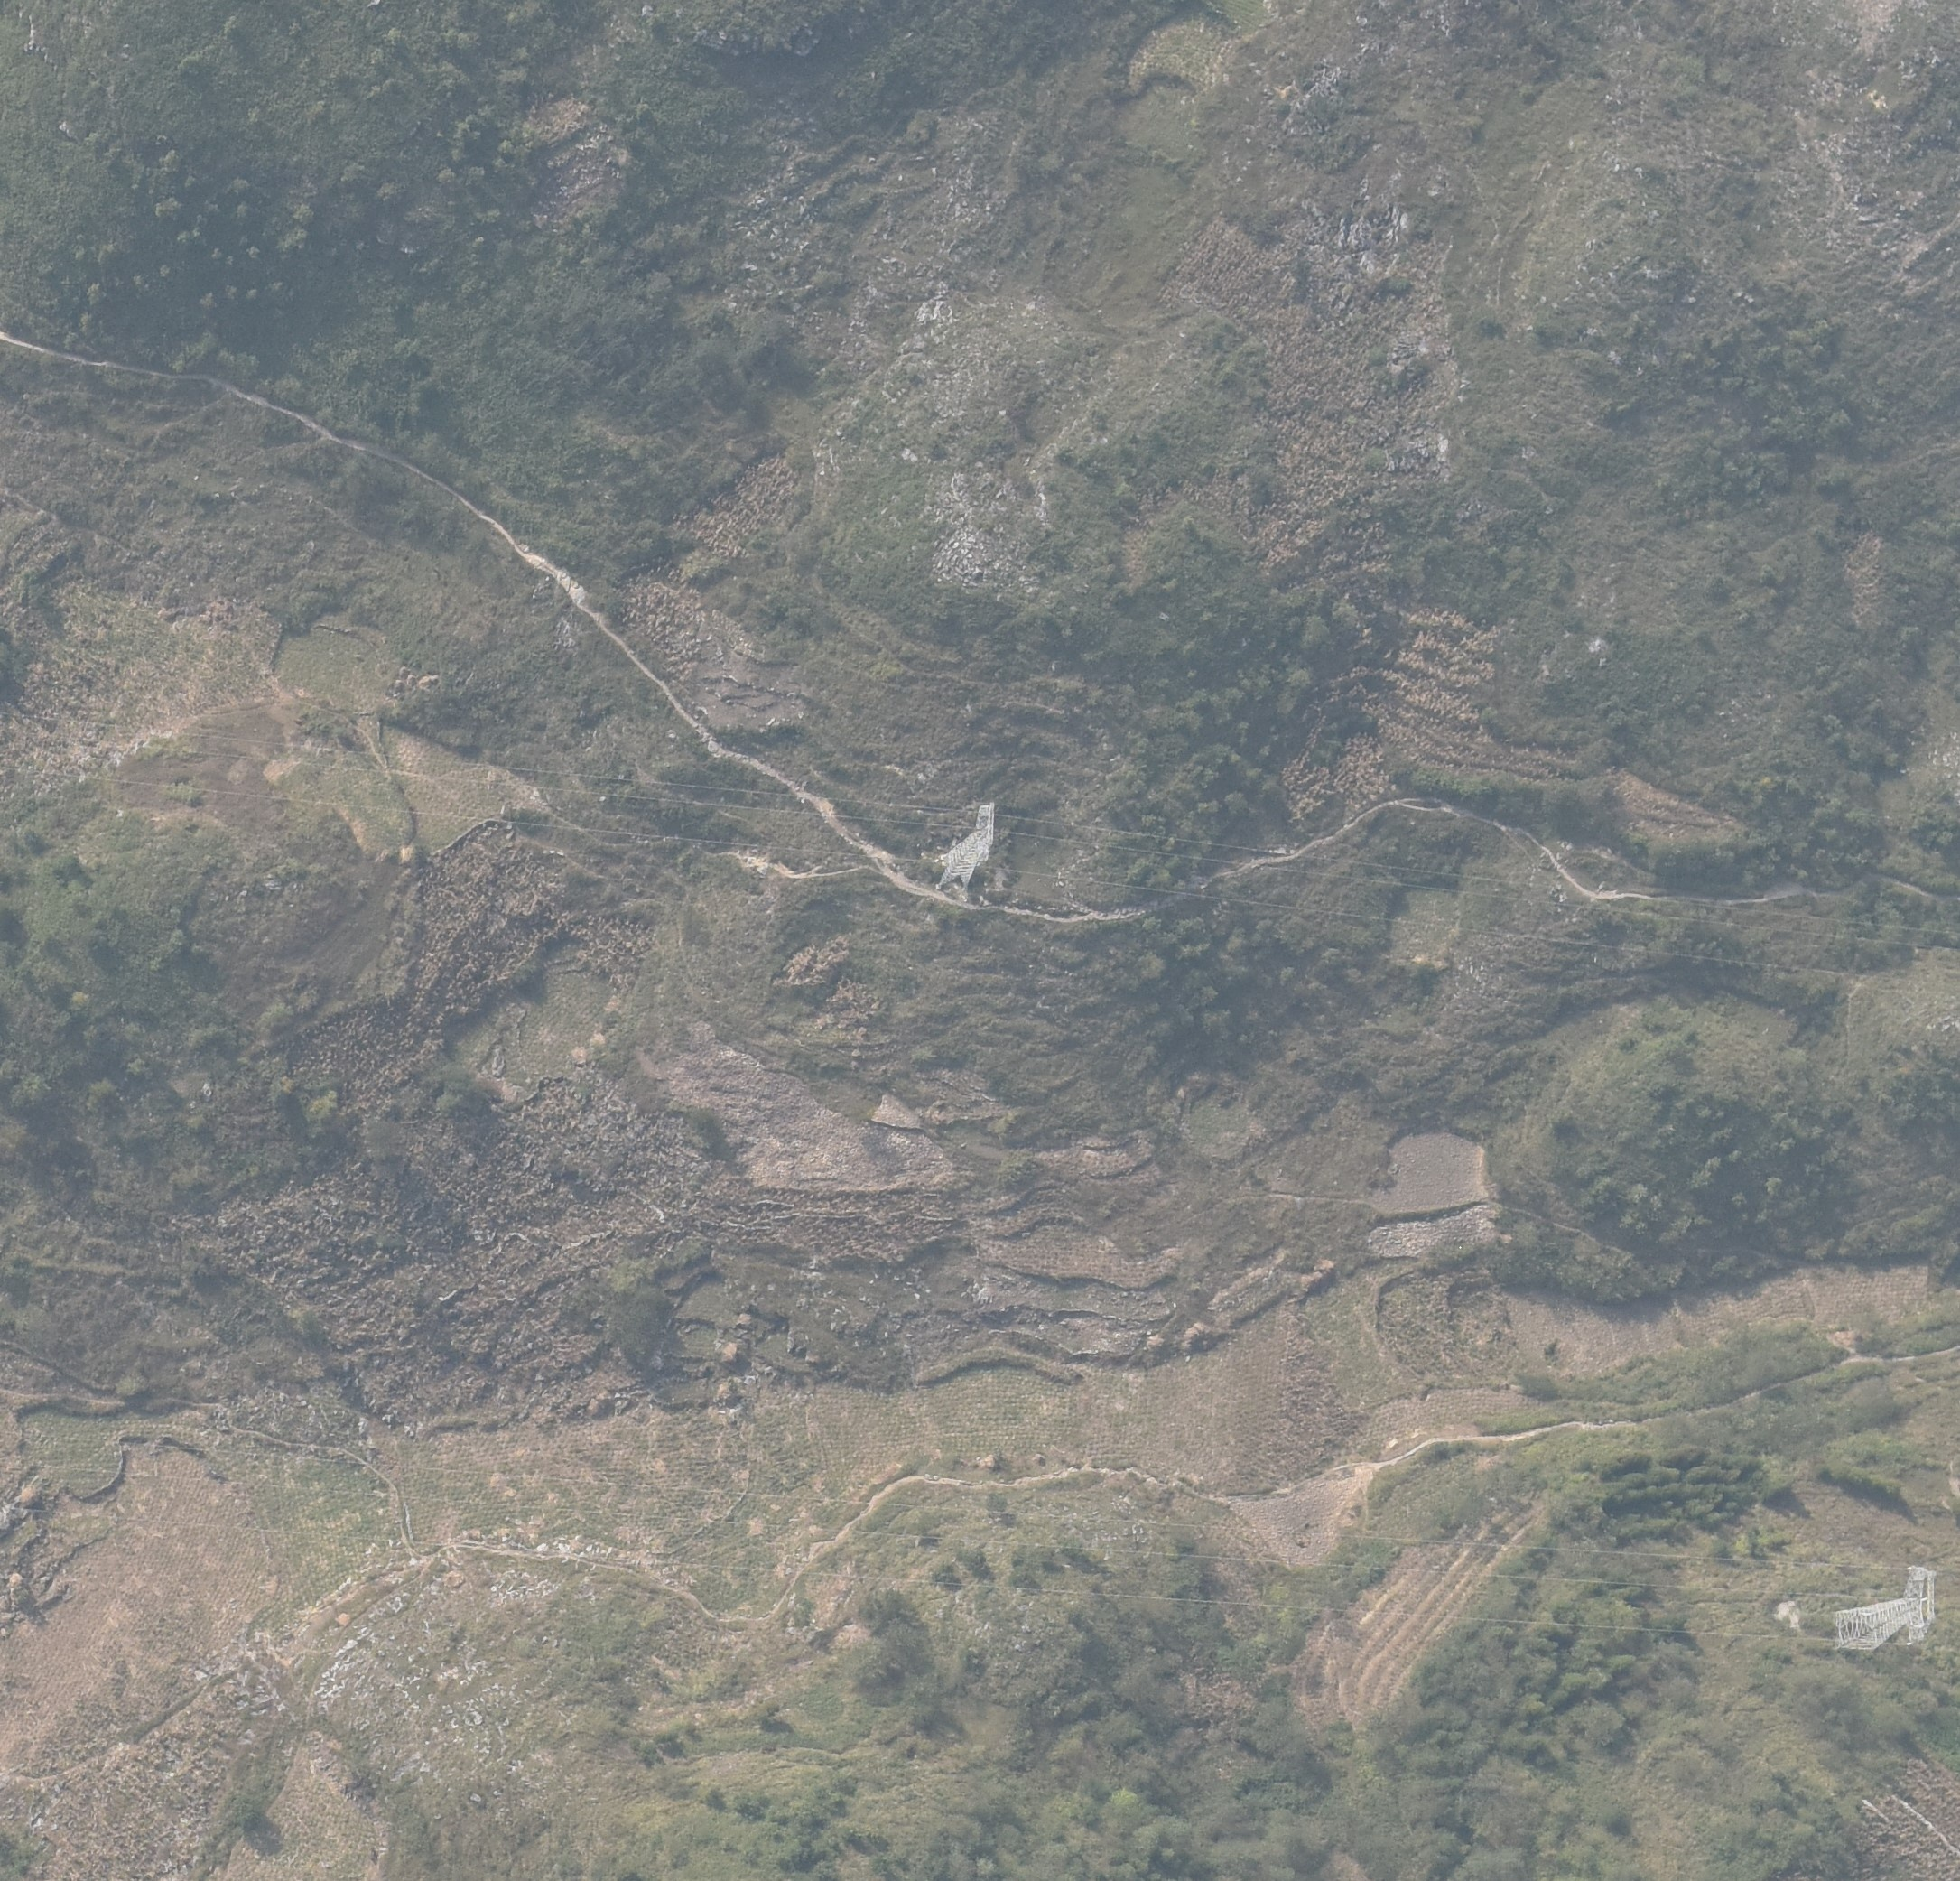cable-tower: (1835, 1567, 1936, 1653), (937, 802, 994, 893)
